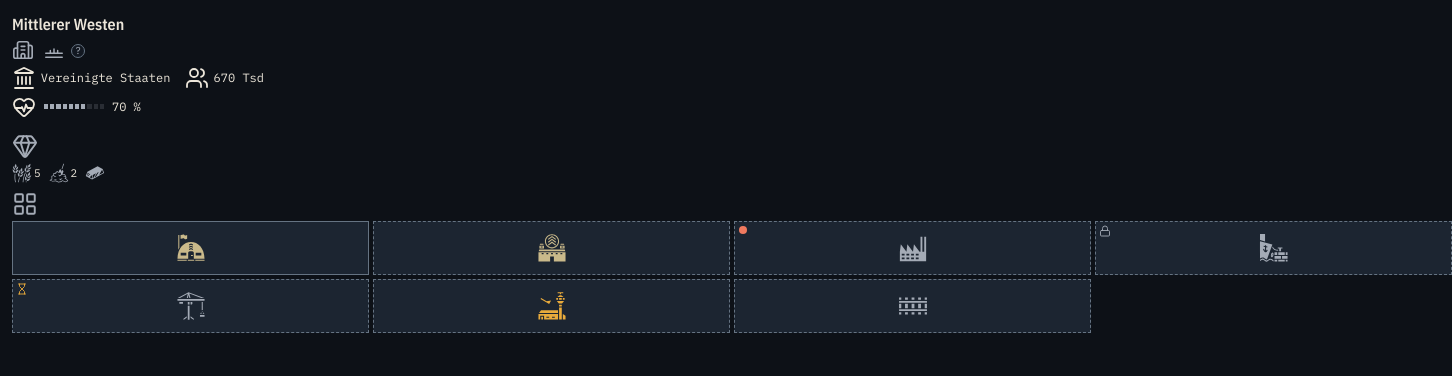
Test: Bauvorschau B2: Zustandsmarken und Vorschauzeile (K4) › pointerOver auf einen Platz fuellt die Zeile, pointerLeave leert sie
The width and height of the screenshot is (1452, 376).
Hover over the button named "factory" at (912, 248), box top-left (896, 226), bottom-right (930, 270)
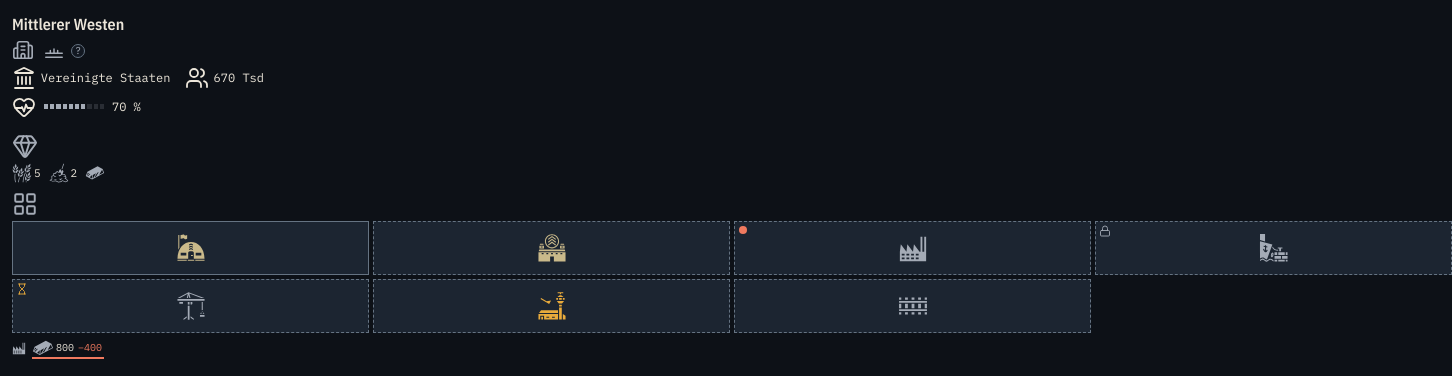
Move the pointer off the element named "Kaserne", box top-left (12, 221), bottom-right (1451, 333)
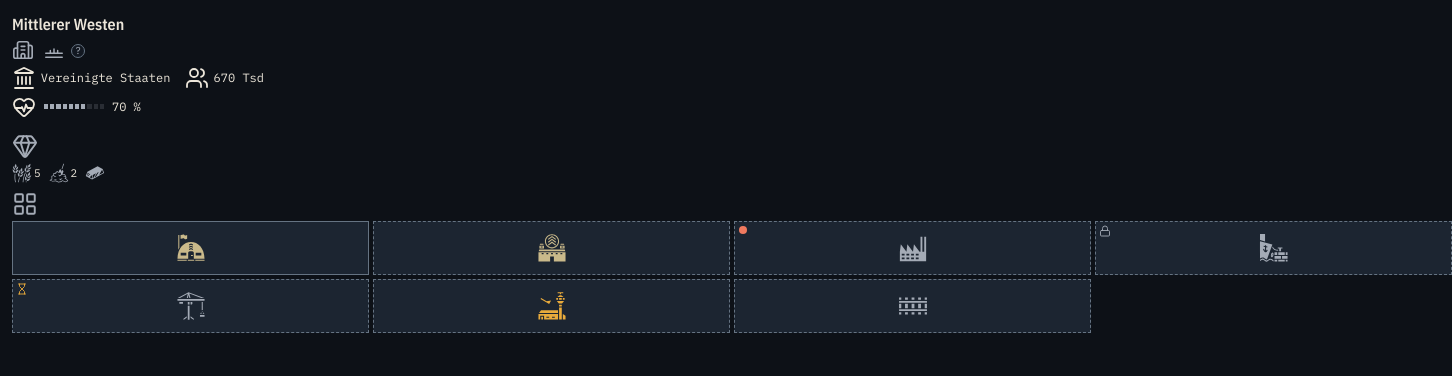
Expected: the element with class "cost-chip" is gone
